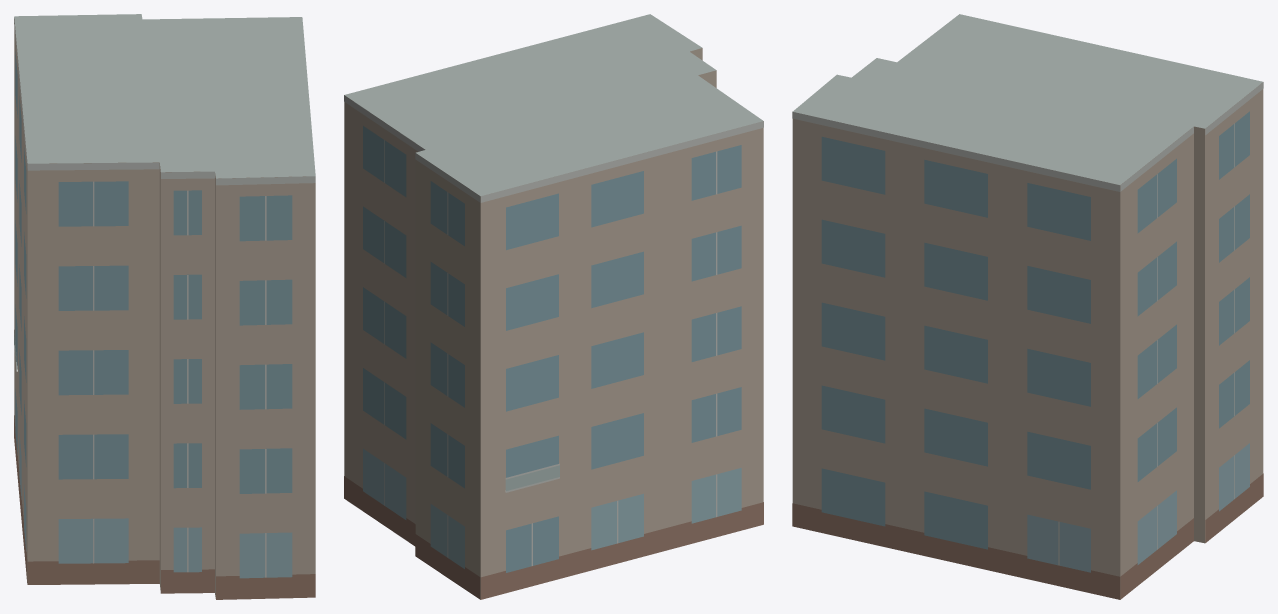
File: survey-upis-32751660.glb
3 views of the same model, side by side, from view 1: azimuth 30°, elevation 25°; view 2: azimuth 150°, elevation 25°; view 3: azimuth 270°, elevation 25° (orthographic). The views are drawn at different scales.
Visible parts, largest first — view 1: survey-upis-32751660.tmp; view 2: survey-upis-32751660.tmp; view 3: survey-upis-32751660.tmp.
Part boxes in pixels (<box>): survey-upis-32751660.tmp: <box>14,14,315,599</box>; survey-upis-32751660.tmp: <box>344,14,763,599</box>; survey-upis-32751660.tmp: <box>792,14,1263,599</box>.
Bounding box in the file's own units: 13.11 × 14.8 × 15.24.
